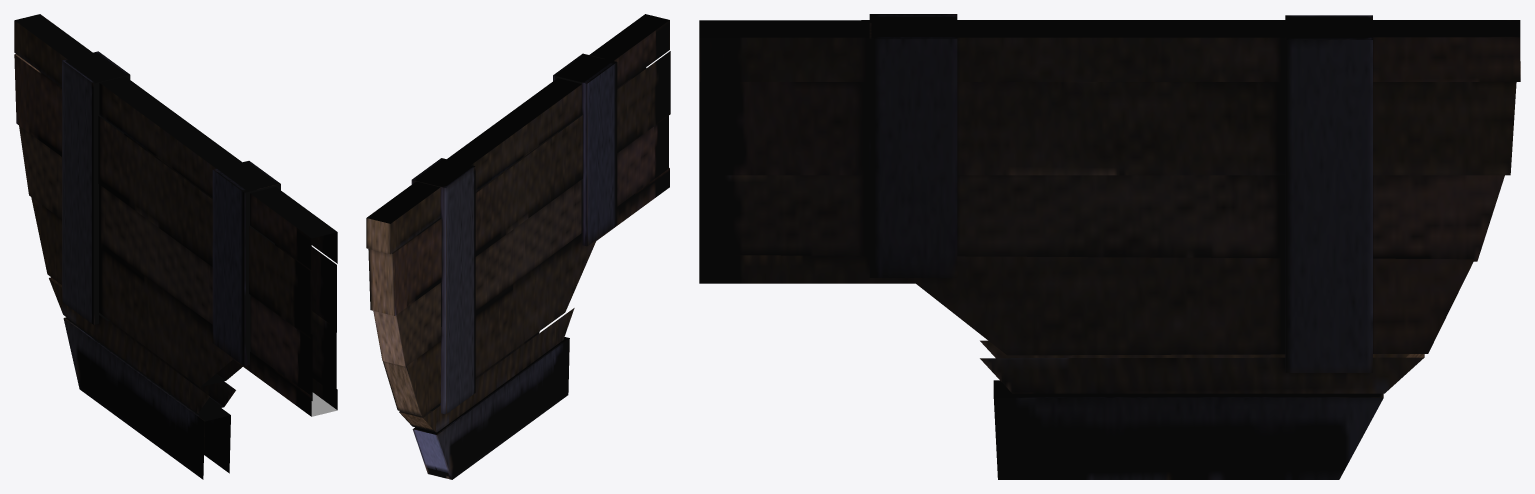
File: ex_DoorSide1_0.obj
3 renders of one model, left to right at view 1: azimuth 30°, elevation 25°; view 2: azimuth 150°, elevation 25°; view 3: azimuth 270°, elevation 25°, orthographic. The views are drawn at different scales.
Visible parts, largest first — view 1: object 2, Cube.025_Cube.423; view 2: object 2; view 3: object 2.
Part boxes in pixels (x1,y1,x2,y2): object 2: (14,14,337,479); Cube.025_Cube.423: (311,392,337,416); object 2: (366,14,670,479); object 2: (699,14,1520,479).
Bounding box in the file's own units: 12.66 × 107 × 178.
